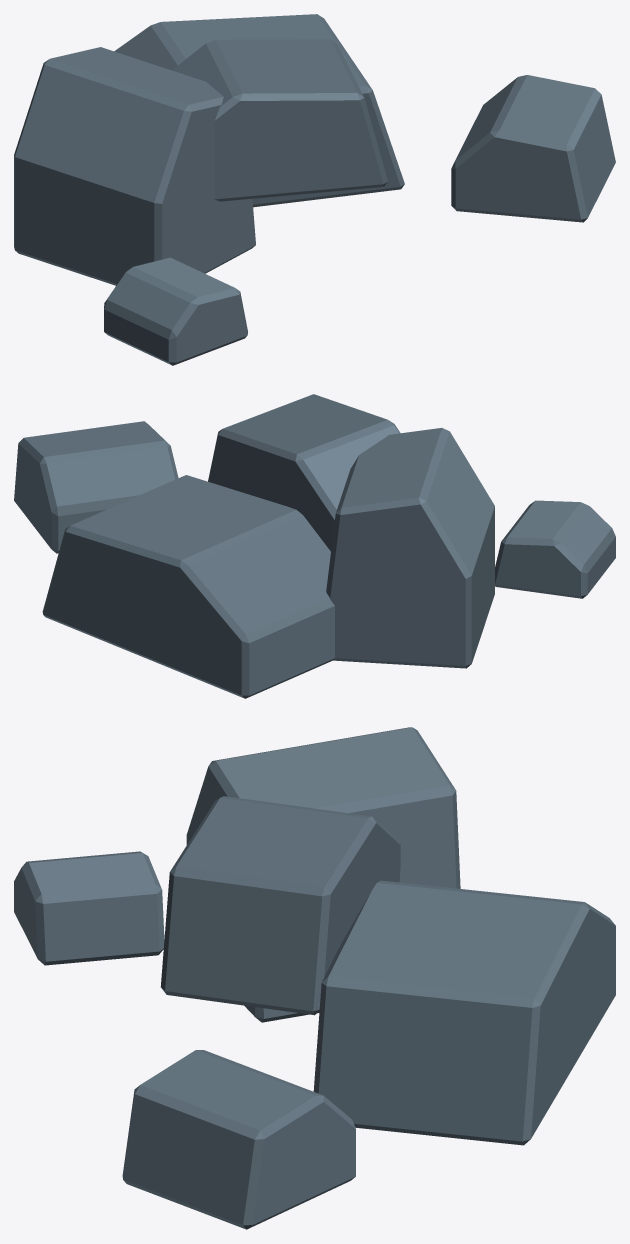
The model's file is A22_Rubble_Cluster.fbx.
3 renders of one model, top to bottom at view 1: azimuth 30°, elevation 25°; view 2: azimuth 150°, elevation 25°; view 3: azimuth 270°, elevation 25°, orthographic. The views are drawn at different scales.
Parts seen in each view (by area): view 1: A22_Rubble_Cluster; view 2: A22_Rubble_Cluster; view 3: A22_Rubble_Cluster.
Boxes of the visible parts, bbox=[...] form: A22_Rubble_Cluster: bbox=[14, 14, 615, 365]; A22_Rubble_Cluster: bbox=[14, 394, 615, 698]; A22_Rubble_Cluster: bbox=[14, 727, 615, 1229].
Size of the model in its own units: 1.37 by 0.4175 by 1.07.
Materials: 1 (1 with a texture image).
